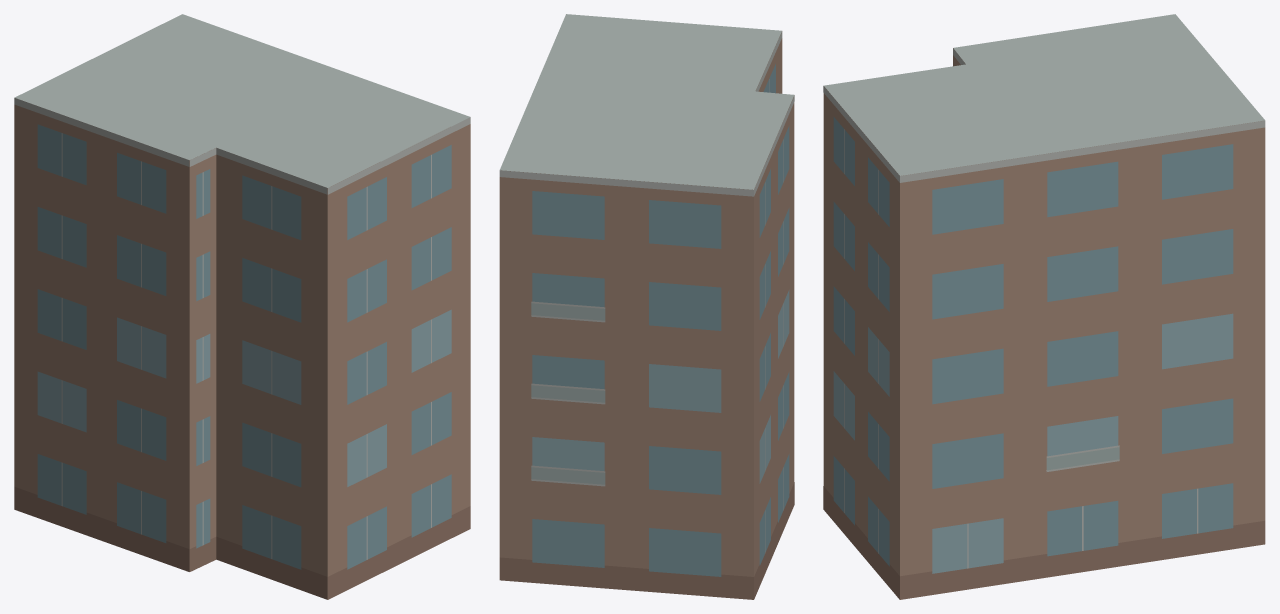
File: survey-upis-32648410.glb
3 views of the same model, side by side, from view 1: azimuth 30°, elevation 25°; view 2: azimuth 150°, elevation 25°; view 3: azimuth 270°, elevation 25° (orthographic). The views are drawn at different scales.
Parts seen in each view (by area): view 1: survey-upis-32648410.tmp; view 2: survey-upis-32648410.tmp; view 3: survey-upis-32648410.tmp.
Boxes of the visible parts, x1,y1,x2,y2 form: survey-upis-32648410.tmp: (14,14,470,599); survey-upis-32648410.tmp: (499,14,794,599); survey-upis-32648410.tmp: (823,14,1265,599).
Size of the model in its own units: 12.1 by 14.75 by 13.94.
